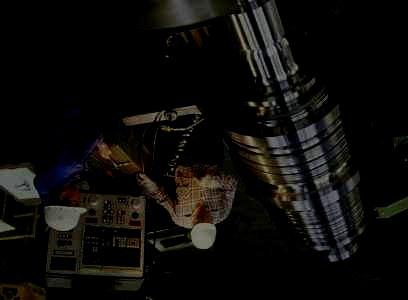helmet: (43, 179, 87, 232), (190, 208, 217, 250)
